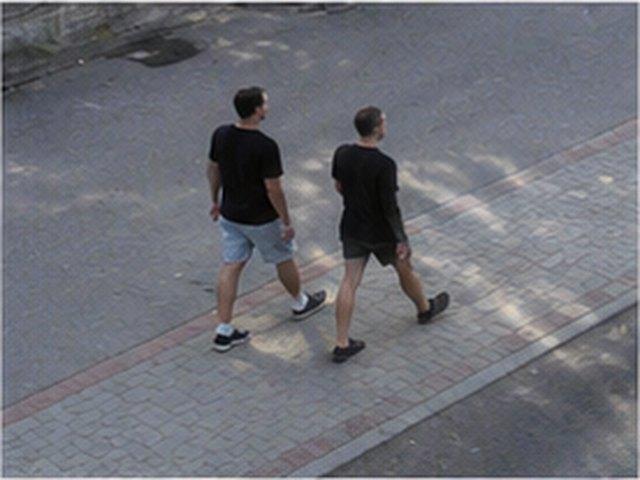suv: (207, 87, 325, 351), (332, 106, 448, 362)
